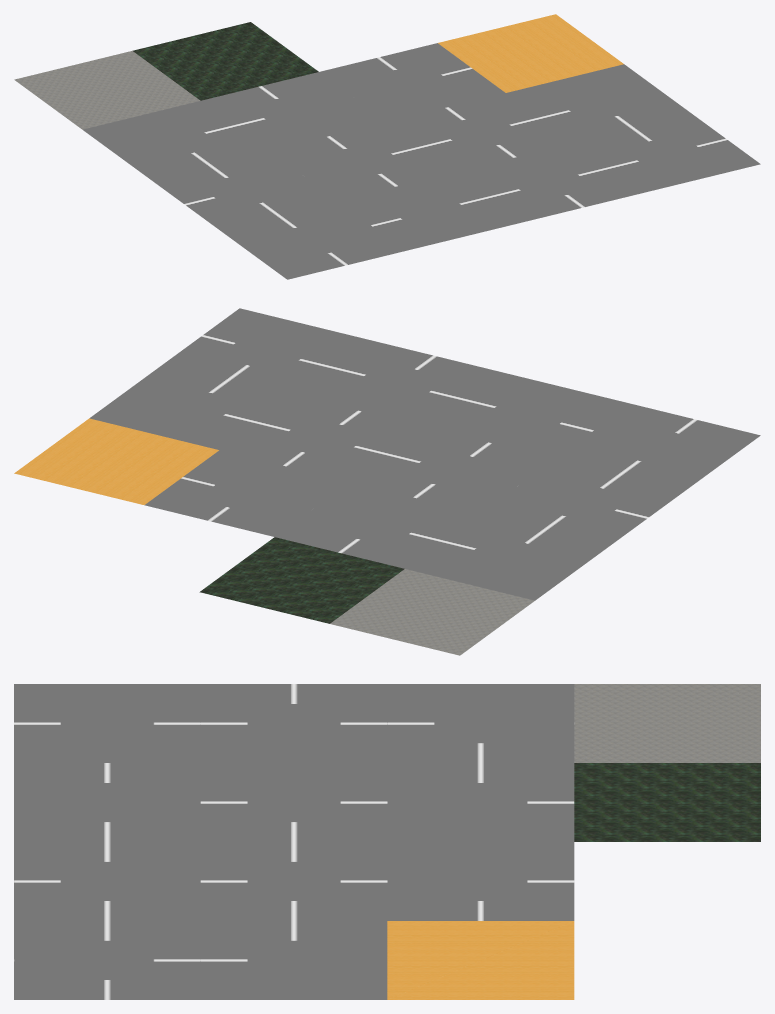
File: General Landscape Meshs.dae
The picture shows the model from 3 angles, top to bottom: view 1: azimuth 30°, elevation 25°; view 2: azimuth 150°, elevation 25°; view 3: azimuth 270°, elevation 25°; orthographic projection. The views are drawn at different scales.
Visible parts, largest first — view 1: Street1, Stones, Street11, Street7, Street5, Street3, Grass, Street10, Street9, Street8, Street6, Street4 (+2 smaller); view 2: Grass, Street8, Street3, Stones, Street11, Street9, Street7, Street1, Street10, Street6, Street5, Street2 (+2 smaller); view 3: Wood, Street11, Street10, Street9, Street8, Street7, Street6, Street5, Grass, Stones, Street4, Street3 (+2 smaller).
Boxes of the visible parts, left/top/right/bottom form: Street1: left=219, top=201, right=405, bottom=279; Stones: left=14, top=51, right=200, bottom=129; Street11: left=319, top=43, right=505, bottom=121; Street7: left=388, top=93, right=573, bottom=171; Street5: left=151, top=151, right=336, bottom=229; Street3: left=456, top=143, right=642, bottom=221; Grass: left=132, top=22, right=318, bottom=100; Street10: left=201, top=72, right=386, bottom=150; Street9: left=83, top=101, right=268, bottom=179; Street8: left=506, top=64, right=692, bottom=142; Street6: left=269, top=122, right=455, bottom=200; Street4: left=574, top=114, right=760, bottom=192; Grass: left=199, top=537, right=404, bottom=623; Street8: left=89, top=363, right=294, bottom=449; Street3: left=295, top=340, right=499, bottom=426; Stones: left=330, top=569, right=534, bottom=655; Street11: left=144, top=450, right=349, bottom=536; Street9: left=405, top=514, right=609, bottom=600; Street7: left=220, top=395, right=424, bottom=481; Street1: left=556, top=403, right=760, bottom=490; Street10: left=275, top=482, right=479, bottom=568; Street6: left=350, top=427, right=554, bottom=513; Street5: left=480, top=458, right=685, bottom=545; Street2: left=425, top=372, right=629, bottom=458; Wood: left=387, top=921, right=574, bottom=999; Street11: left=387, top=842, right=574, bottom=920; Street10: left=387, top=763, right=574, bottom=841; Street9: left=387, top=684, right=574, bottom=762; Street8: left=200, top=921, right=387, bottom=999; Street7: left=200, top=842, right=387, bottom=920; Street6: left=200, top=763, right=387, bottom=841; Street5: left=200, top=684, right=387, bottom=762; Grass: left=574, top=763, right=760, bottom=841; Stones: left=574, top=684, right=760, bottom=762; Street4: left=14, top=921, right=200, bottom=999; Street3: left=14, top=842, right=200, bottom=920.
Size of the model in its own units: 20 by 20 by 0.
Materials: 14 (14 with a texture image).
